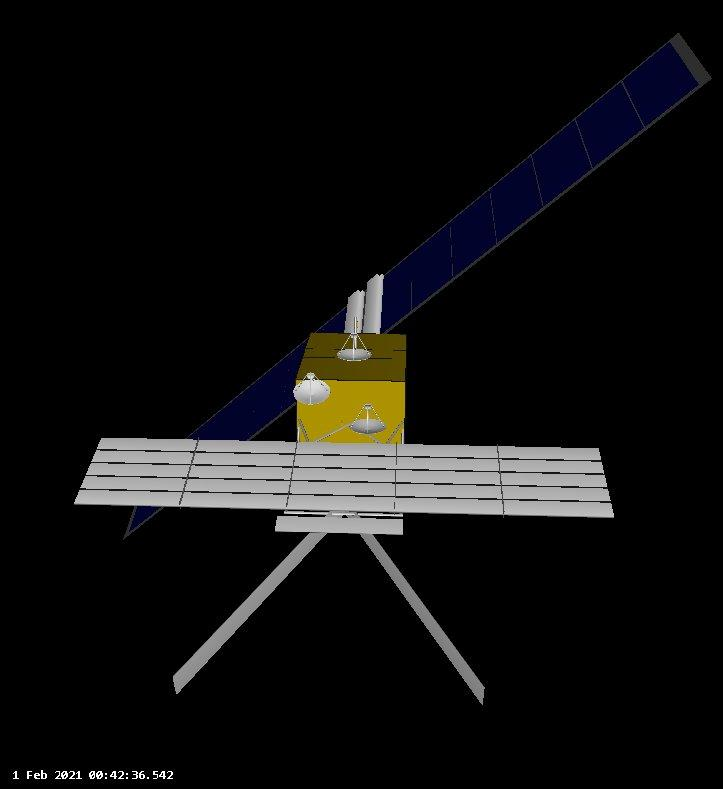antenna: (290, 370, 333, 407), (347, 400, 388, 435), (334, 331, 375, 364)
body: (293, 331, 409, 447)
solar: (361, 29, 715, 336), (118, 285, 366, 543), (70, 434, 619, 519)
